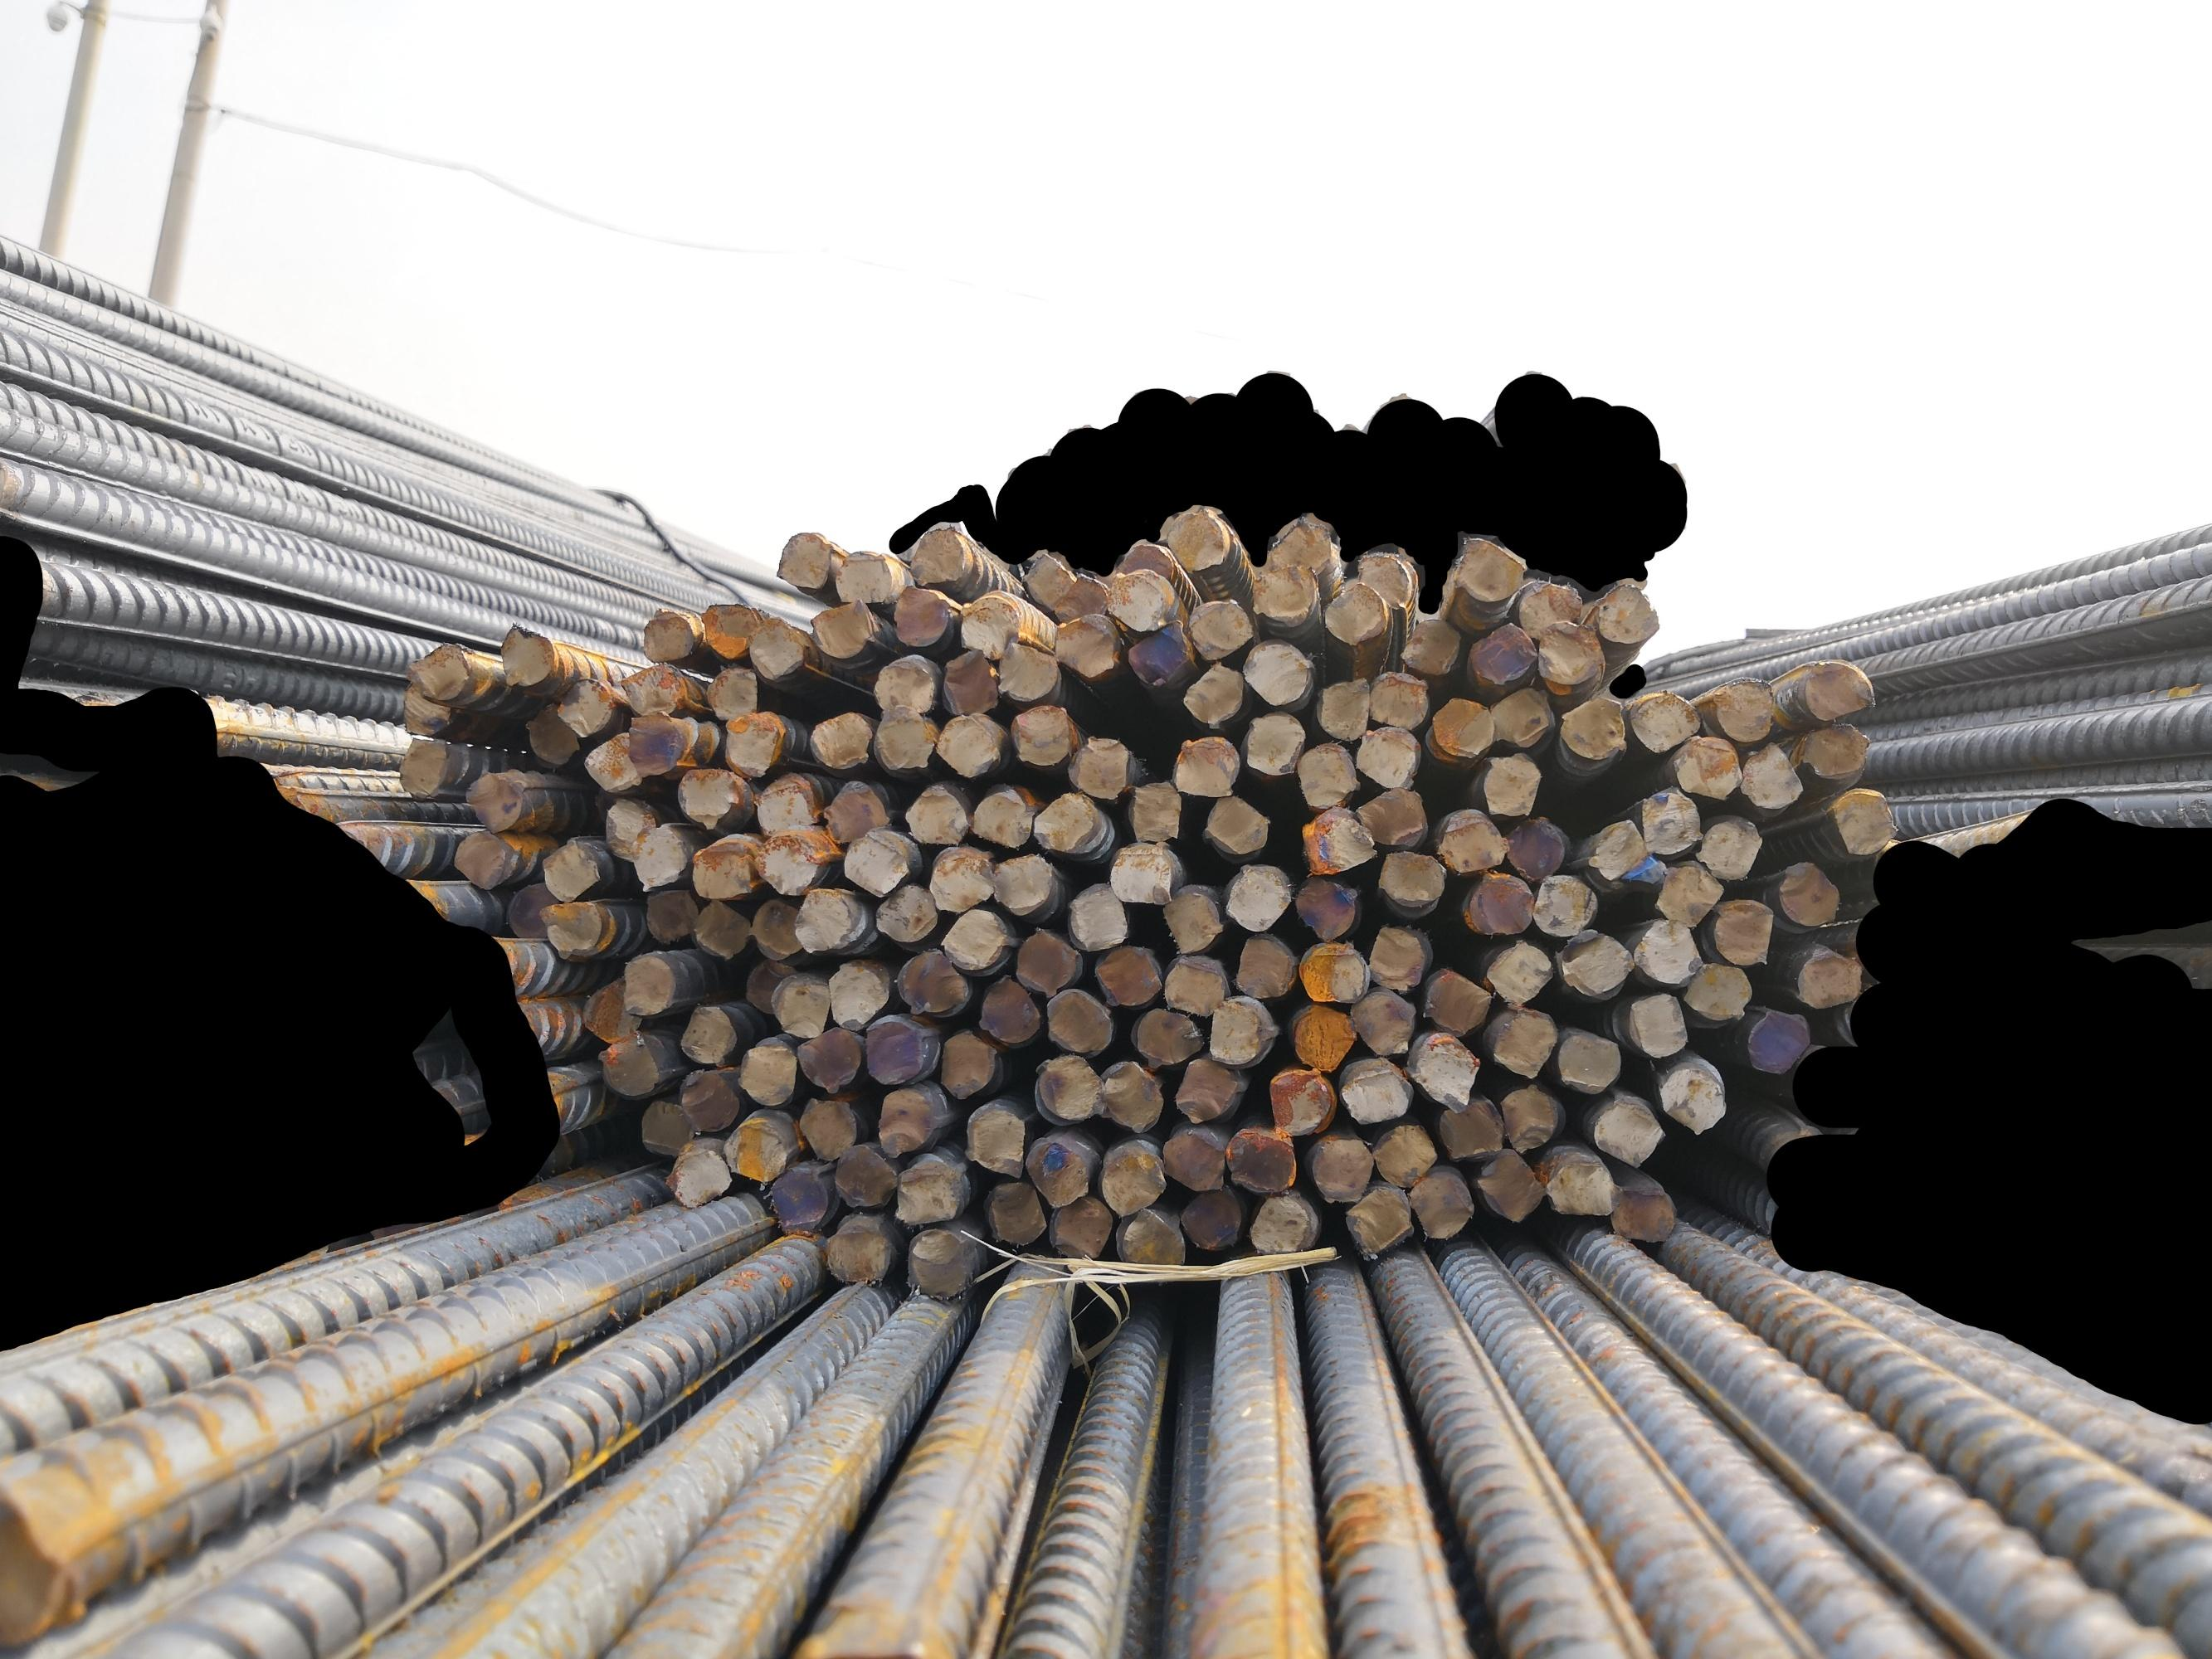bar: (1293, 802, 1377, 878), (1408, 1021, 1480, 1110), (1469, 1145, 1548, 1223), (1032, 1046, 1109, 1126), (1537, 1147, 1618, 1223), (1553, 925, 1637, 999), (1584, 814, 1665, 889), (1586, 1096, 1668, 1169), (1825, 782, 1902, 859), (1041, 985, 1116, 1061), (1262, 509, 1337, 586), (1478, 936, 1557, 1009), (814, 774, 894, 845), (1421, 962, 1496, 1037), (1340, 1182, 1412, 1260), (1485, 1002, 1557, 1080), (1353, 781, 1431, 852), (1124, 1002, 1206, 1070), (1009, 924, 1082, 999), (1656, 1063, 1731, 1136), (1234, 636, 1311, 708), (1449, 532, 1525, 603), (1628, 685, 1705, 756), (1607, 1175, 1682, 1246), (1464, 612, 1539, 683), (1705, 669, 1776, 744), (1797, 653, 1872, 725), (1680, 951, 1755, 1023), (1020, 1133, 1089, 1209), (1156, 951, 1232, 1021), (1553, 1019, 1623, 1096), (1534, 615, 1604, 692), (837, 831, 915, 899), (1647, 863, 1727, 929), (898, 946, 971, 1018), (899, 775, 973, 847), (1220, 861, 1292, 934), (1288, 1002, 1361, 1073), (1225, 1124, 1299, 1195), (1407, 1169, 1478, 1243), (1593, 575, 1666, 647), (1773, 854, 1844, 927), (1170, 1053, 1239, 1127), (1632, 915, 1706, 985), (1635, 777, 1703, 854), (959, 1101, 1025, 1180), (1100, 1054, 1164, 1134), (1025, 782, 1096, 854), (1173, 655, 1245, 727), (1290, 737, 1361, 809), (1795, 941, 1867, 1012), (985, 847, 1055, 920), (931, 709, 1001, 782), (1351, 720, 1421, 793), (1119, 1201, 1187, 1276), (1431, 1094, 1506, 1162), (870, 697, 936, 774), (1297, 938, 1374, 1004), (1433, 809, 1510, 875), (1496, 1079, 1560, 1157), (1204, 992, 1265, 1073), (662, 1138, 732, 1209), (830, 1140, 899, 1211), (936, 903, 1008, 972), (952, 589, 1021, 660), (1123, 619, 1194, 688), (1346, 990, 1417, 1060), (1672, 732, 1743, 802), (593, 1028, 661, 1101), (1156, 1126, 1229, 1194), (1170, 727, 1238, 800), (1307, 1131, 1375, 1204), (1478, 748, 1546, 821), (1741, 1007, 1815, 1075), (823, 955, 889, 1030), (934, 641, 1001, 716), (1323, 575, 1389, 650), (1293, 871, 1360, 946), (1532, 866, 1598, 941), (1696, 805, 1762, 880), (934, 1025, 999, 1101), (1086, 943, 1163, 1007), (1797, 720, 1876, 782), (858, 1018, 927, 1087), (1096, 1147, 1166, 1216), (1107, 842, 1177, 911), (1426, 690, 1496, 760), (673, 1063, 741, 1134), (750, 831, 821, 899), (899, 1225, 967, 1297), (976, 976, 1044, 1047), (1175, 1183, 1246, 1251), (1555, 692, 1626, 760), (1462, 870, 1534, 938), (1065, 725, 1131, 798), (1063, 880, 1130, 953), (1182, 594, 1255, 660), (1239, 708, 1306, 781), (1265, 1065, 1332, 1138), (1485, 683, 1558, 749), (1100, 568, 1175, 633), (1245, 561, 1320, 626), (763, 969, 831, 1039), (981, 1176, 1049, 1246), (805, 592, 873, 662), (1245, 1188, 1314, 1256), (1501, 812, 1569, 882), (1708, 897, 1776, 967), (594, 793, 661, 864), (1048, 1190, 1114, 1262), (1048, 612, 1119, 678), (1157, 889, 1229, 955), (1625, 990, 1691, 1061), (1196, 791, 1271, 854), (795, 1089, 856, 1166), (967, 782, 1035, 850), (1517, 575, 1584, 643), (784, 889, 854, 955), (873, 1086, 940, 1155), (995, 638, 1065, 704), (1368, 1117, 1435, 1187), (926, 850, 997, 915), (1232, 929, 1295, 1002), (1339, 1066, 1415, 1126), (493, 620, 560, 688), (577, 976, 643, 1044), (720, 1119, 788, 1185), (795, 1023, 861, 1091), (689, 835, 757, 901), (718, 711, 784, 779), (1363, 666, 1431, 732), (1740, 741, 1806, 809), (891, 1162, 960, 1227), (390, 735, 462, 798), (765, 1164, 828, 1236), (399, 640, 474, 699), (1365, 918, 1424, 993), (1372, 845, 1447, 904), (1314, 667, 1372, 744), (1008, 702, 1074, 769), (1398, 613, 1464, 680), (882, 586, 950, 650), (1163, 505, 1227, 573), (734, 1039, 797, 1108), (1123, 777, 1185, 847), (615, 953, 683, 1016), (870, 657, 938, 720), (824, 1222, 894, 1283), (533, 897, 605, 957), (460, 770, 525, 835), (622, 713, 687, 777), (767, 526, 831, 591), (577, 728, 643, 791), (675, 1002, 737, 1068), (519, 701, 580, 769), (690, 892, 751, 960), (905, 526, 973, 587), (626, 823, 685, 892), (804, 709, 873, 769), (551, 674, 614, 739), (535, 838, 598, 903), (751, 774, 816, 836), (1351, 547, 1414, 612), (736, 951, 797, 1018), (502, 878, 561, 946), (744, 894, 802, 964), (870, 884, 936, 943), (697, 601, 765, 659), (675, 765, 741, 823), (392, 680, 455, 739), (450, 829, 509, 892), (830, 549, 896, 605), (617, 660, 685, 714), (638, 1093, 694, 1157), (638, 889, 701, 945), (748, 617, 802, 681), (640, 605, 695, 666), (1049, 568, 1110, 624), (1110, 537, 1177, 587), (704, 664, 758, 725), (1020, 549, 1072, 610), (589, 784, 631, 823)
